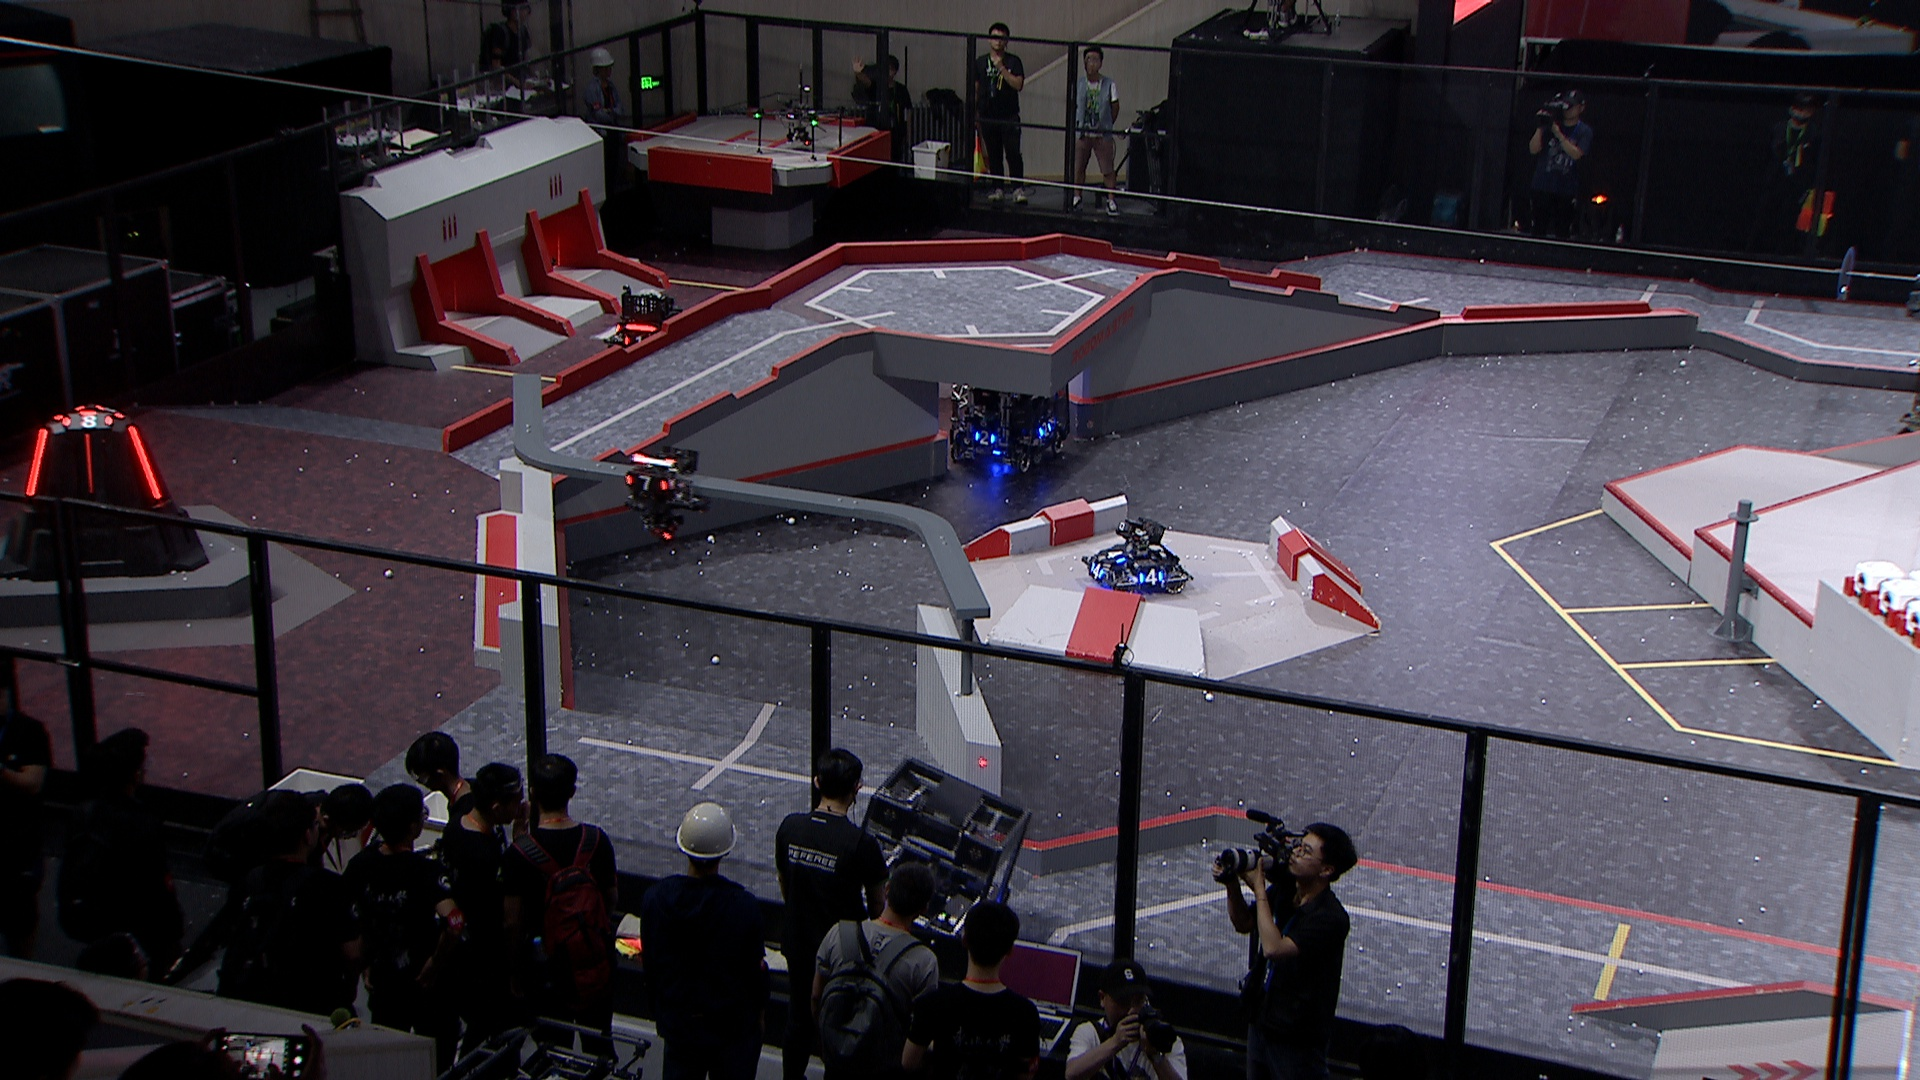armor: (128, 425, 164, 501), (25, 425, 49, 496), (61, 411, 112, 429), (624, 473, 665, 493), (82, 433, 95, 493), (1135, 567, 1164, 584), (1105, 545, 1126, 566), (973, 429, 997, 446), (1039, 419, 1054, 438), (1091, 559, 1102, 579), (624, 334, 642, 345)
car: (836, 756, 1033, 963), (942, 353, 1073, 480), (1077, 516, 1191, 597), (604, 290, 690, 365), (1898, 342, 1920, 456)
watcher: (617, 438, 713, 549)
